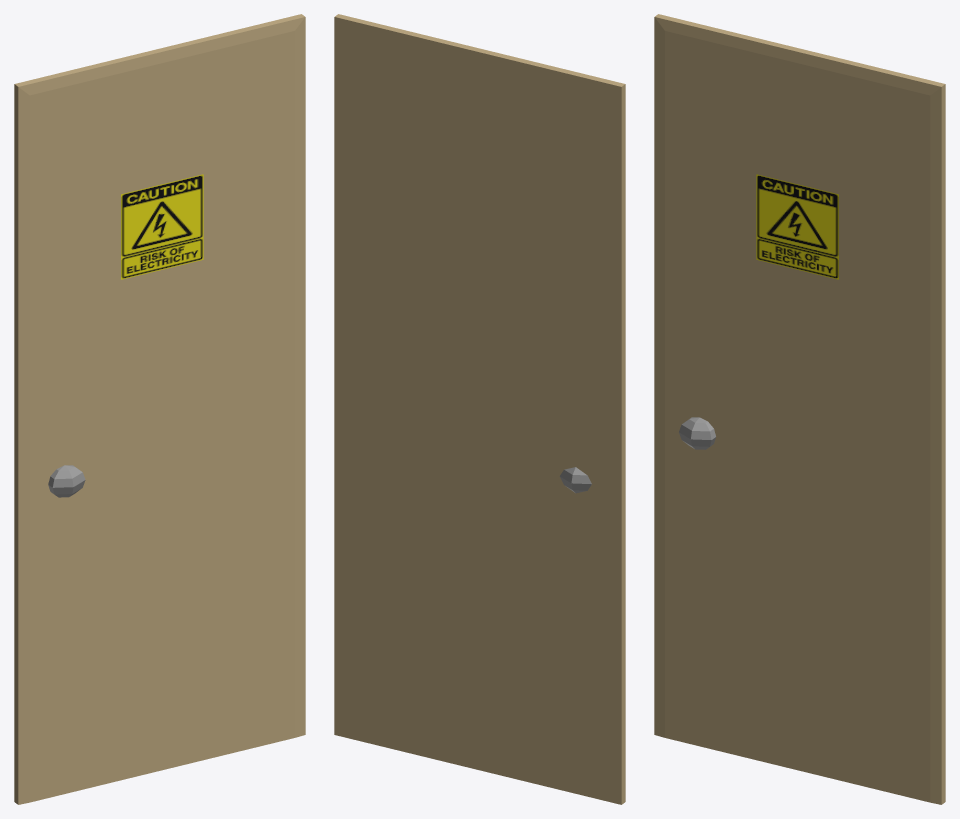
Rendered from PortaQuadroEletrico.fbx.
3 views of the same model, side by side, from view 1: azimuth 30°, elevation 25°; view 2: azimuth 150°, elevation 25°; view 3: azimuth 330°, elevation 25° (orthographic).
Visible parts, largest first — view 1: PortaQuadroEletrico; view 2: PortaQuadroEletrico; view 3: PortaQuadroEletrico.
Boxes of the visible parts, x1,y1,x2,y2 form: PortaQuadroEletrico: (14,14,305,804); PortaQuadroEletrico: (334,14,625,804); PortaQuadroEletrico: (654,14,945,804).
Bounding box in the file's own units: 1.34 × 3.2 × 0.1439.
Materials: 3 (1 with a texture image).
